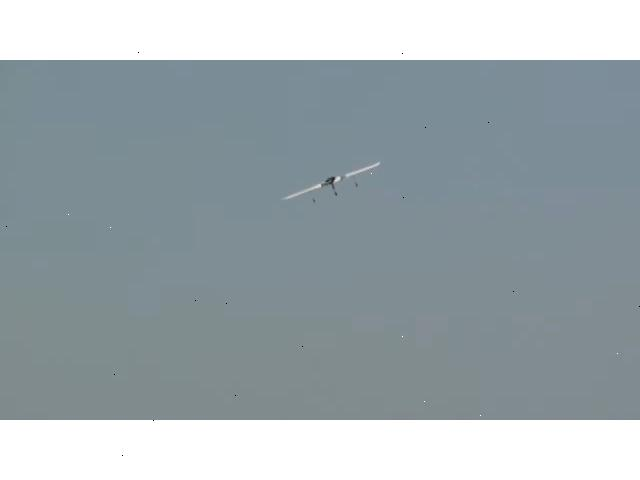Anti-Drone: (282, 164, 380, 200)
